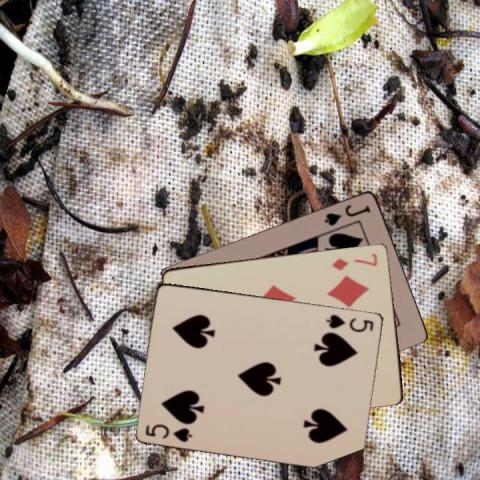5s: (323, 312, 375, 334), (143, 421, 194, 443)
7d: (330, 250, 380, 271)
Js: (321, 202, 372, 228)
